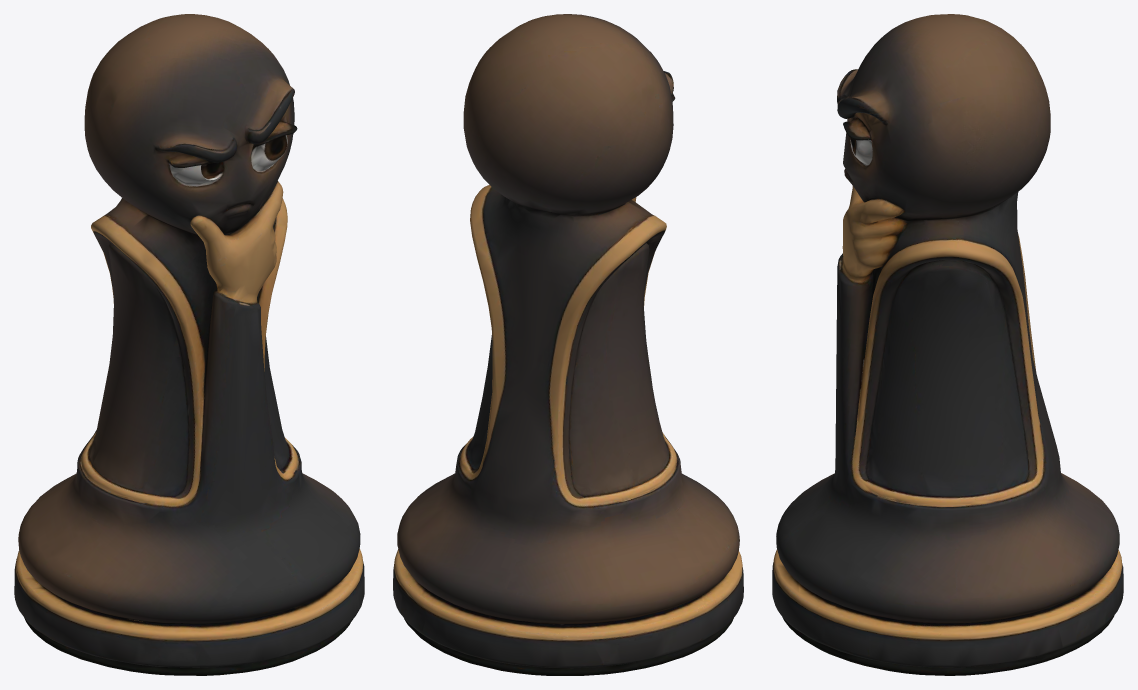
The model's file is thinking-model.glb.
3 views of the same model, side by side, from view 1: azimuth 30°, elevation 25°; view 2: azimuth 150°, elevation 25°; view 3: azimuth 270°, elevation 25° (orthographic).
Visible parts, largest first — view 1: tripo_node_d88e560c; view 2: tripo_node_d88e560c; view 3: tripo_node_d88e560c.
Part boxes in pixels (bbox=[...]): tripo_node_d88e560c: bbox=[14, 14, 364, 675]; tripo_node_d88e560c: bbox=[393, 14, 743, 675]; tripo_node_d88e560c: bbox=[772, 14, 1123, 675].
Bounding box in the file's own units: 53.42 × 97.79 × 53.48.
1 material, 1 textured.
